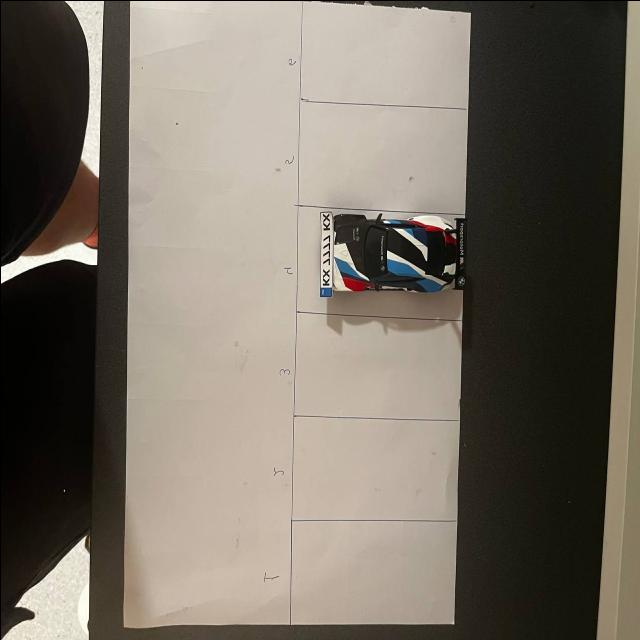cars: (304, 204, 471, 313)
